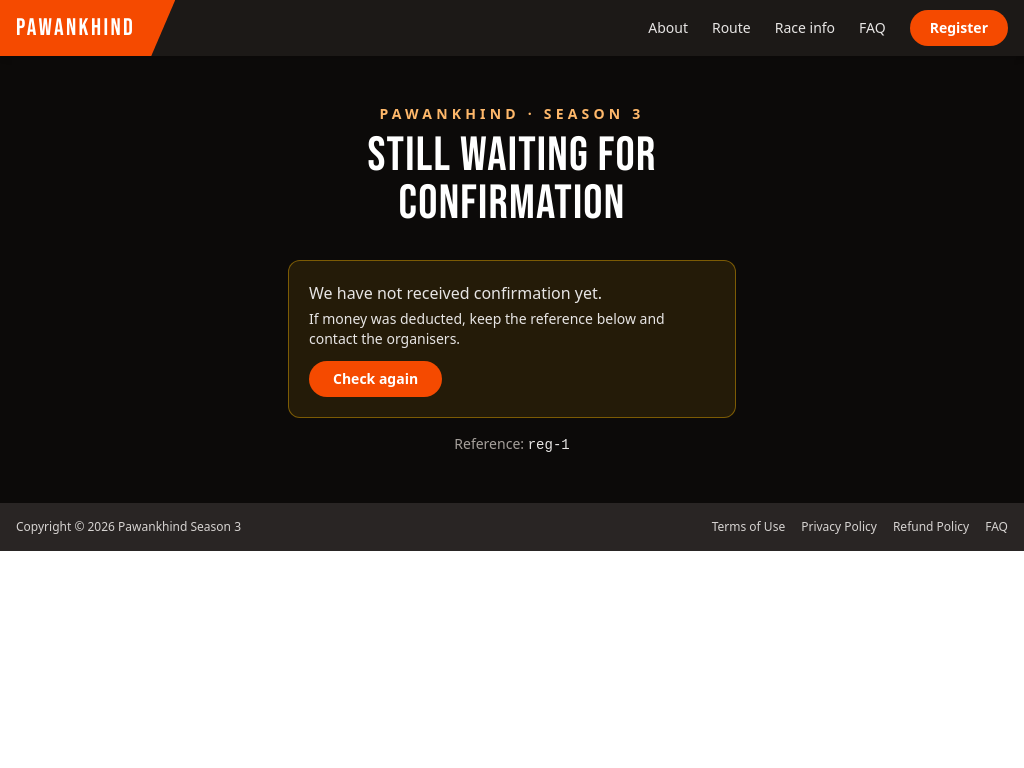
Test: result page › gives up after the time limit and offers to check again
Expected: the text "We have not received confirmation yet." is shown, [309,282,602,304]
Click the button "Check again". click: click(376, 379)
box: [309,361,442,397]
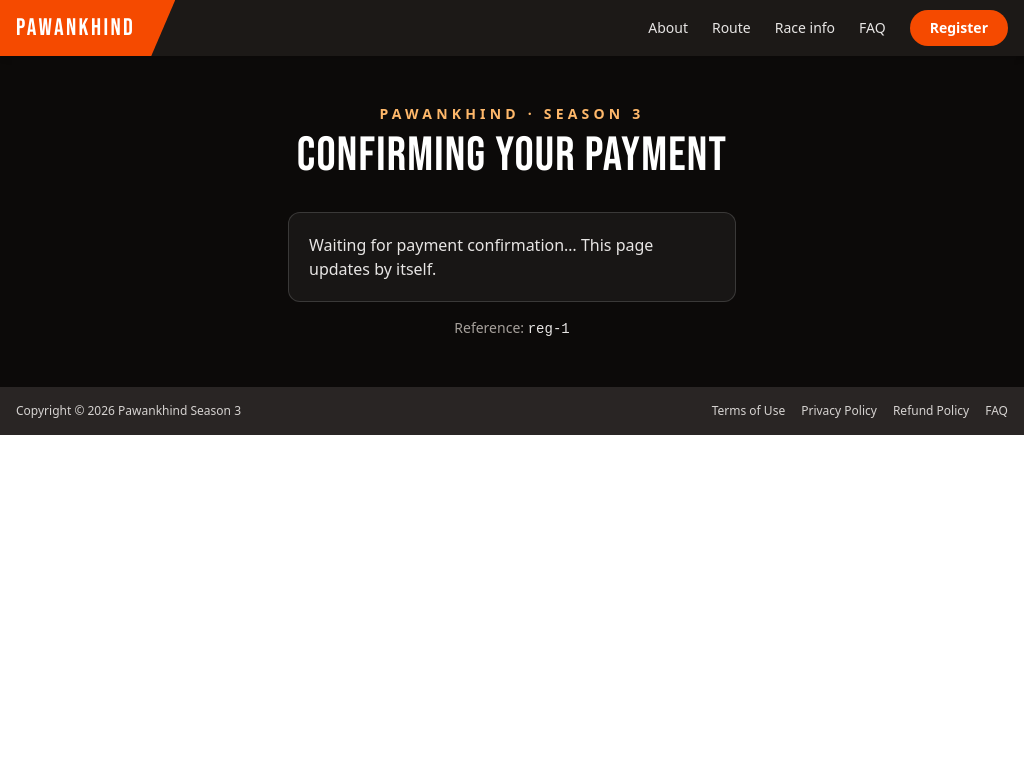
Now the text "Waiting for payment confirmation" is shown, box [309,234,653,280]
